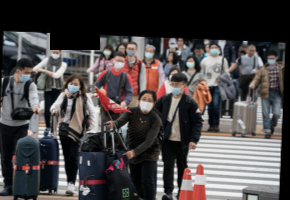mask_weared_incorrect: (195, 48, 203, 58)
with_mask: (138, 95, 154, 112), (169, 80, 182, 95), (18, 69, 32, 82), (66, 80, 79, 93), (112, 56, 125, 69), (125, 45, 136, 57), (143, 48, 154, 59), (167, 71, 178, 82), (50, 49, 60, 59), (266, 55, 276, 65), (184, 59, 195, 68), (102, 47, 112, 56), (209, 45, 218, 55), (168, 41, 176, 49), (217, 47, 221, 54)
without_mask: (246, 48, 256, 56), (176, 38, 184, 46), (166, 52, 173, 61), (117, 46, 125, 53), (204, 45, 211, 52)
